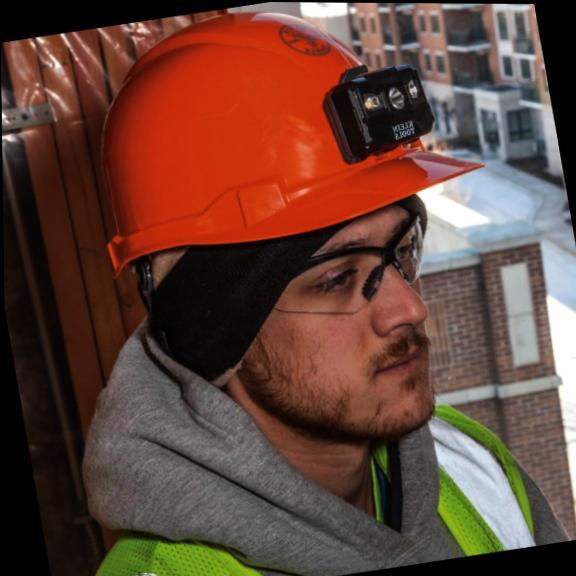safety_vest: (36, 383, 527, 576)
